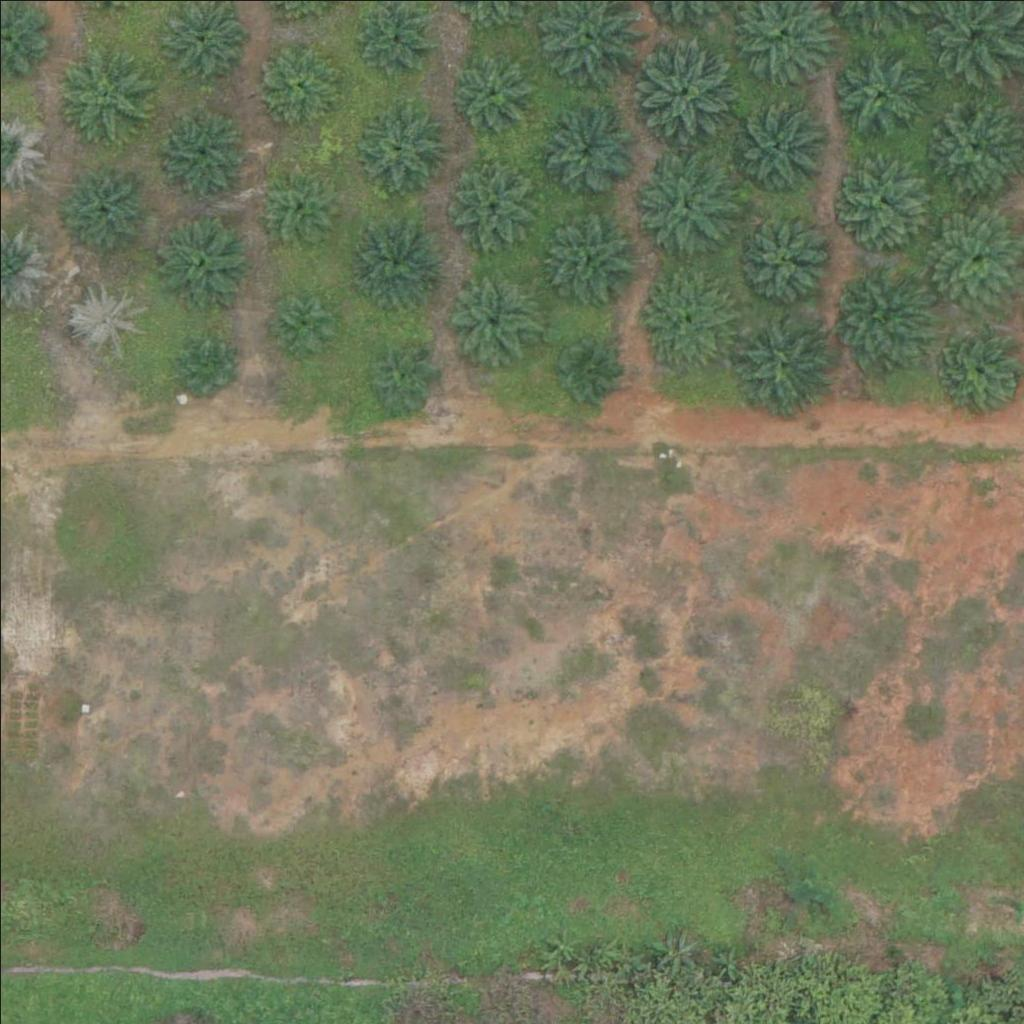Kelapa_Sawit: (724, 303, 836, 416), (624, 33, 736, 146), (828, 260, 928, 361), (727, 201, 827, 302), (725, 95, 825, 196), (634, 263, 734, 364), (632, 157, 732, 258), (538, 205, 638, 306), (535, 97, 635, 198), (441, 267, 541, 368), (828, 152, 928, 252), (825, 41, 925, 141), (149, 210, 249, 310), (50, 156, 150, 256), (50, 42, 150, 142), (445, 155, 533, 244), (351, 213, 439, 301), (354, 100, 442, 188), (252, 34, 340, 122), (449, 42, 536, 130), (157, 105, 244, 193), (68, 281, 143, 357), (262, 163, 337, 238), (369, 342, 432, 405), (272, 295, 335, 358), (552, 340, 615, 403), (177, 335, 239, 397)
